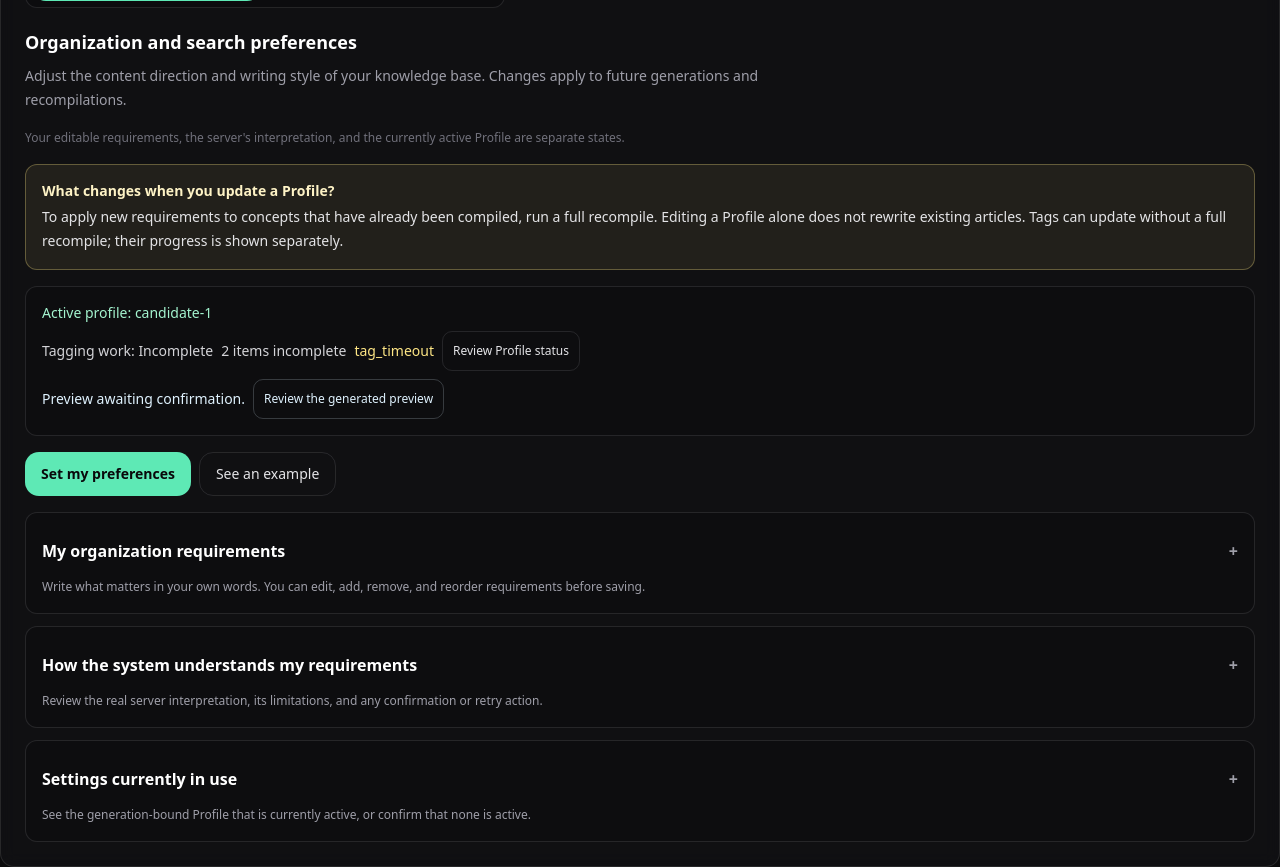
Test: LWC-211 Project Profile › shows the candidate guidance artifact text and its immutable version metadata
(page scrolled)
Click the button "Settings currently in use +" at point(140, 779), box [42, 757, 1238, 801]
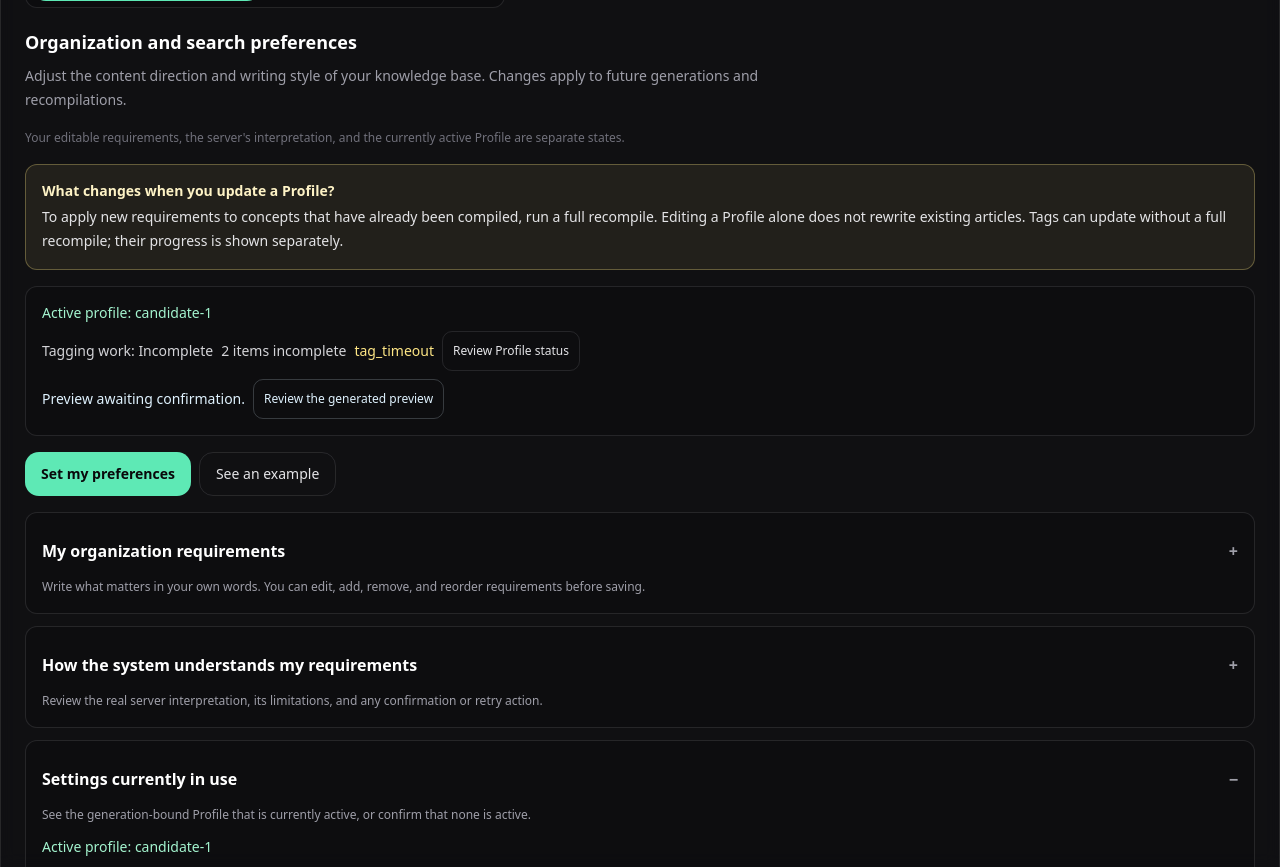
Click the button "How the system understands my requirements" at point(230, 665), box [42, 643, 1238, 687]
(page scrolled)
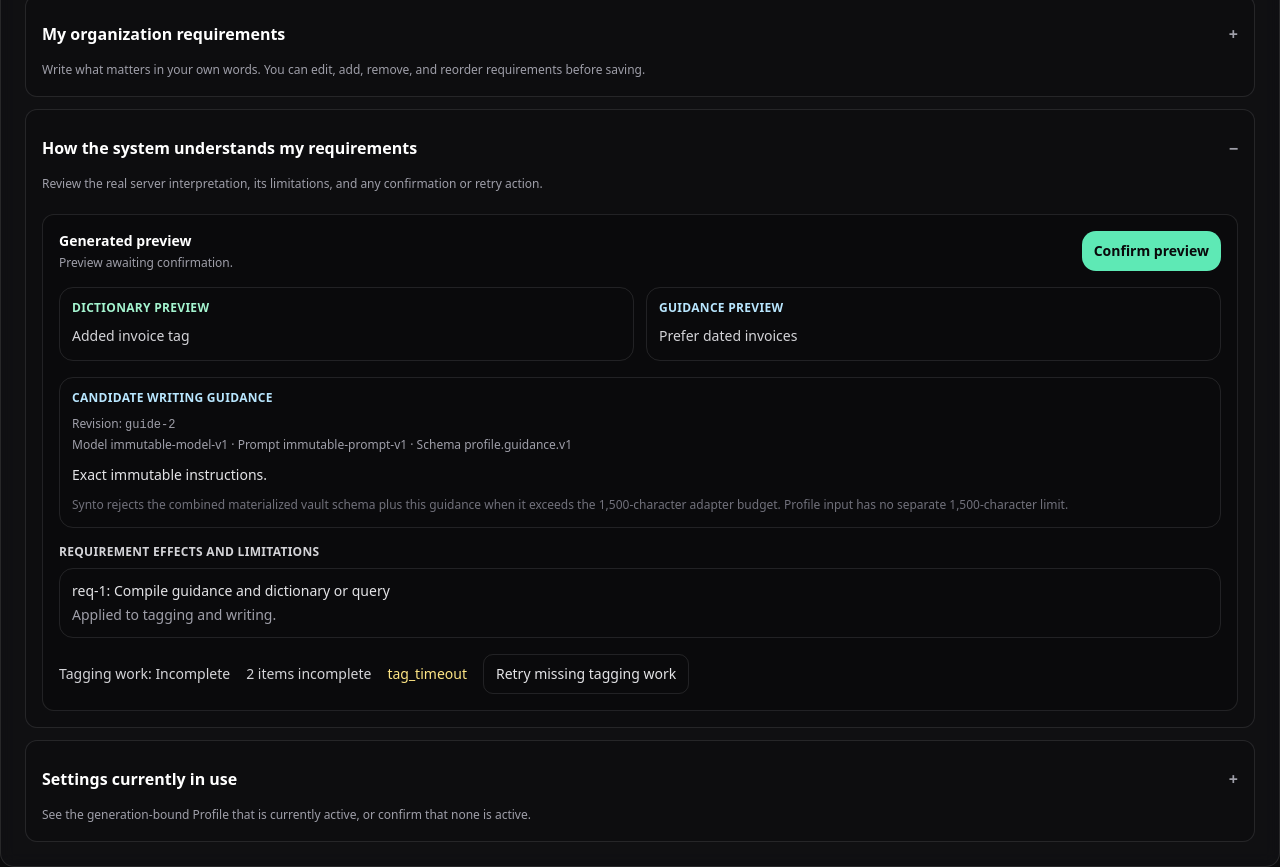
Expected: the text "Exact immutable instructions." is shown, [72, 465, 267, 484]
Expected: the heading "Candidate writing guidance" is shown, [72, 389, 273, 406]
Expected: the text "guide-2" is shown, [125, 418, 175, 432]
